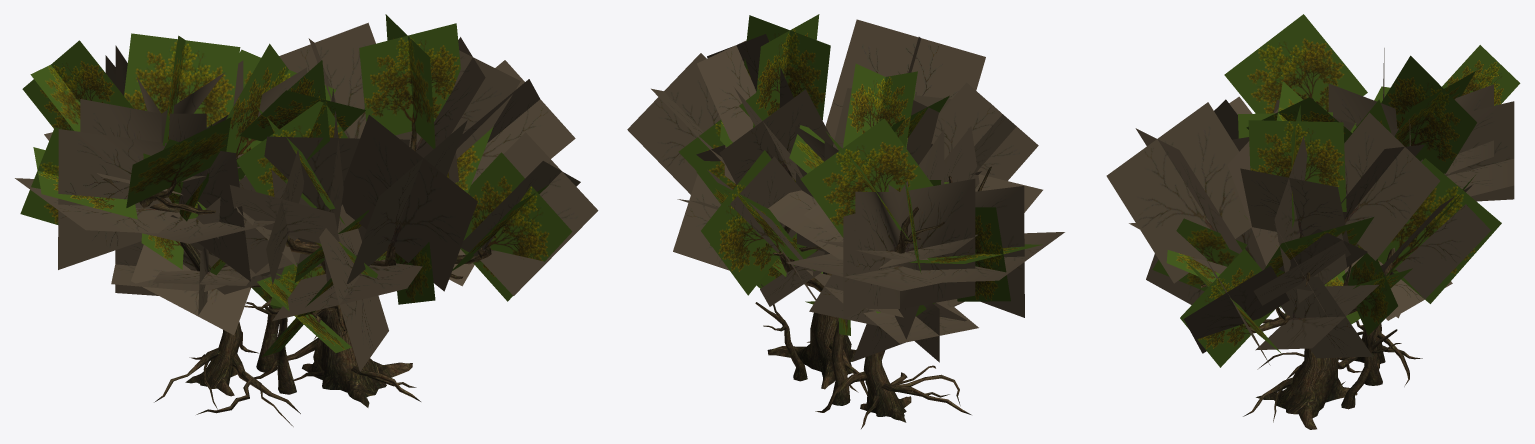
File: zhaozeshu_61.FBX
3 renders of one model, left to right at view 1: azimuth 30°, elevation 25°; view 2: azimuth 150°, elevation 25°; view 3: azimuth 270°, elevation 25°, orthographic. The views are drawn at different scales.
Parts seen in each view (by area): view 1: zhaozeshu_61_shuzhi, zhaozeshu_61_shuye, zhaozeshu_61_ncl1_2; view 2: zhaozeshu_61_shuzhi, zhaozeshu_61_shuye, zhaozeshu_61_ncl1_2; view 3: zhaozeshu_61_shuzhi, zhaozeshu_61_shuye, zhaozeshu_61_ncl1_2.
Part boxes in pixels (<box>): zhaozeshu_61_shuzhi: <box>15,22,598,371</box>; zhaozeshu_61_shuye: <box>20,14,572,357</box>; zhaozeshu_61_ncl1_2: <box>101,123,491,426</box>; zhaozeshu_61_shuzhi: <box>627,19,1064,362</box>; zhaozeshu_61_shuye: <box>678,14,1042,335</box>; zhaozeshu_61_ncl1_2: <box>755,166,991,428</box>; zhaozeshu_61_shuzhi: <box>1106,48,1514,365</box>; zhaozeshu_61_shuye: <box>1152,14,1520,367</box>; zhaozeshu_61_ncl1_2: <box>1201,98,1422,429</box>.
Size of what is drawn, in the model's own units: 2579 by 1811 by 2179.
